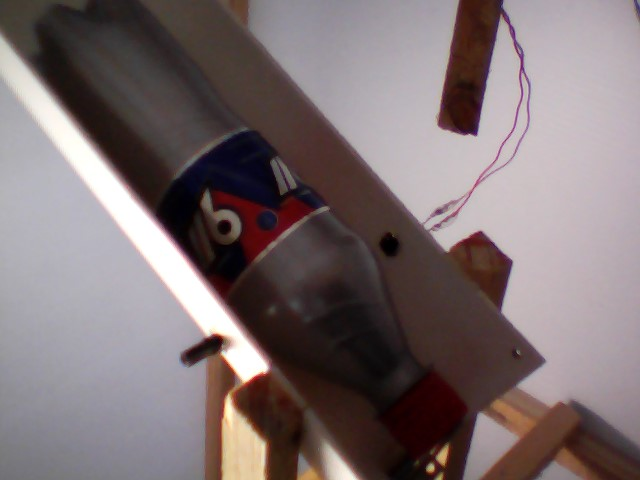plastico: (26, 1, 471, 464)
